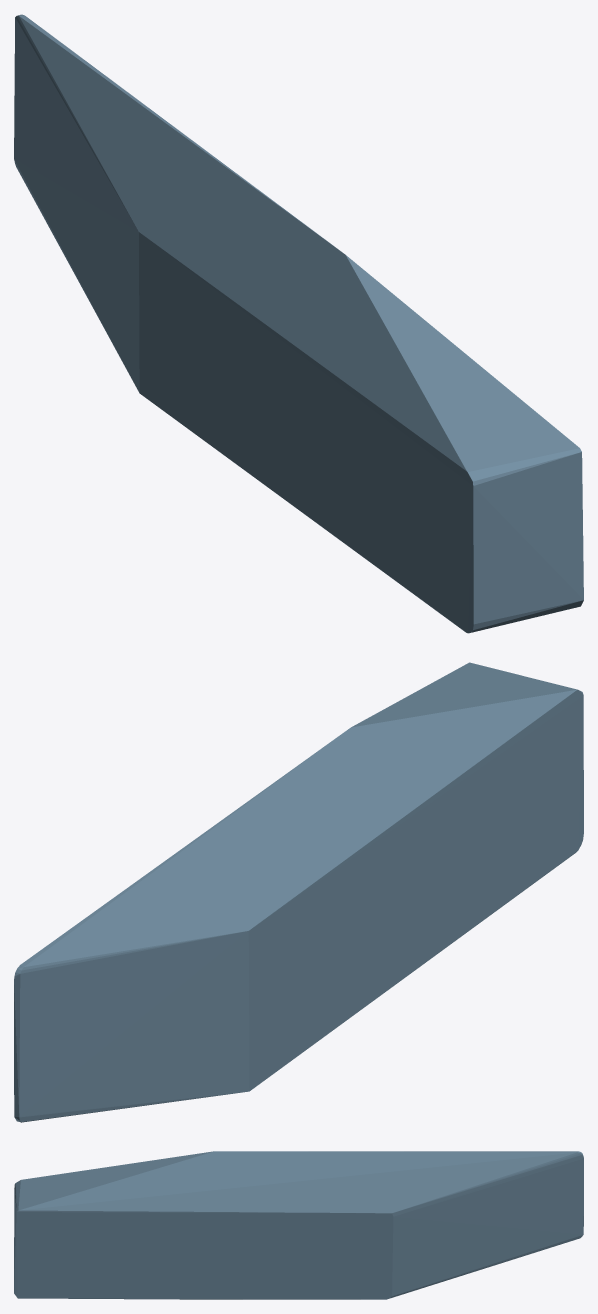
The model's file is cabinet_file_b04.glb.
The picture shows the model from 3 angles, top to bottom: view 1: azimuth 30°, elevation 25°; view 2: azimuth 150°, elevation 25°; view 3: azimuth 270°, elevation 25°; orthographic projection. The views are drawn at different scales.
Visible parts, largest first — view 1: geometry_0; view 2: geometry_0; view 3: geometry_0.
Boxes of the visible parts, x1=… form: geometry_0: x1=14, y1=14, x2=583, y2=633; geometry_0: x1=14, y1=662, x2=583, y2=1122; geometry_0: x1=14, y1=1151, x2=583, y2=1299.
Size of the model in its own units: 0.0599 by 0.1241 by 0.4799.
